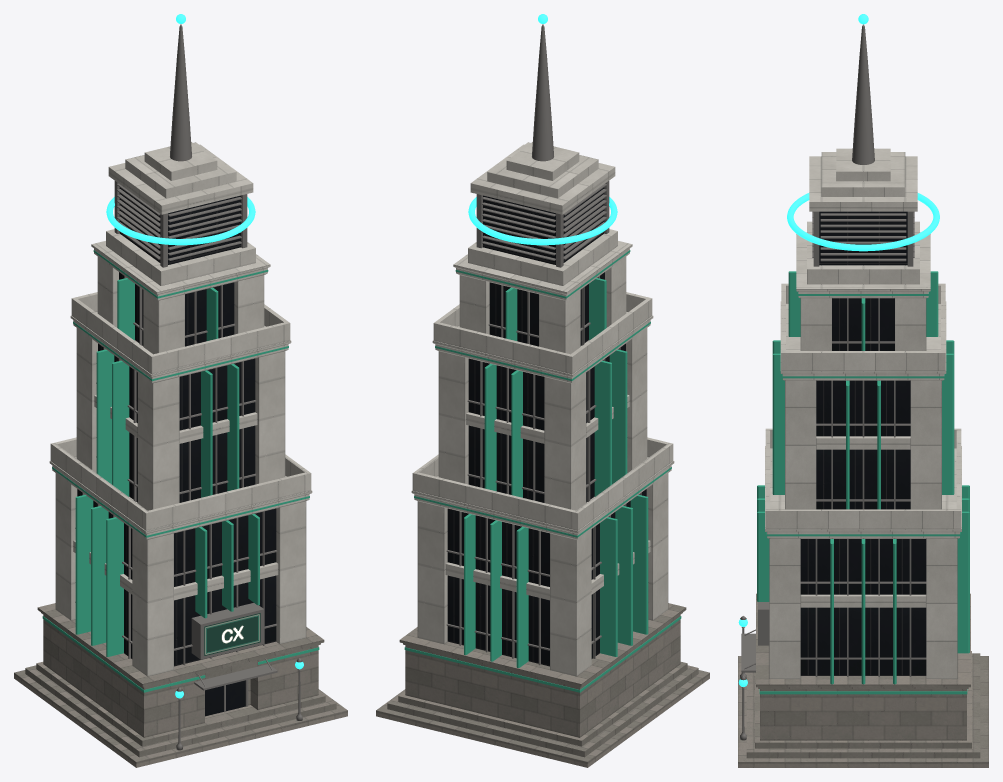
The model's file is s04-curable-x.glb.
3 views of the same model, side by side, from view 1: azimuth 30°, elevation 25°; view 2: azimuth 150°, elevation 25°; view 3: azimuth 270°, elevation 25° (orthographic). The views are drawn at different scales.
Visible parts, largest first — view 1: Landmark · Curable.X (Series 4); view 2: Landmark · Curable.X (Series 4); view 3: Landmark · Curable.X (Series 4).
Boxes of the visible parts, x1,y1,x2,y2 form: Landmark · Curable.X (Series 4): (14,14,347,767); Landmark · Curable.X (Series 4): (376,14,709,767); Landmark · Curable.X (Series 4): (738,14,988,767).
Size of the model in its own units: 12 by 37 by 12.
7 materials, 4 textured.
